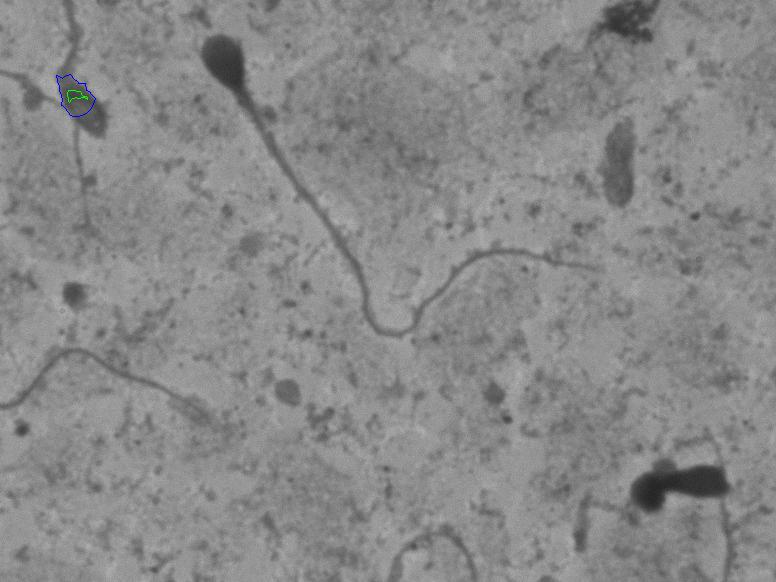Abnormal: (188, 27, 616, 349)
